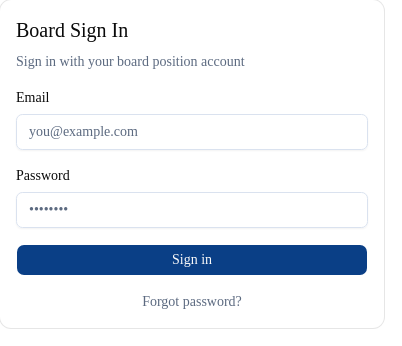
Test case: LoginForm — forgot password › shows the email form when 'Forgot password?' is clicked
Step 1. Click the button "Forgot password?" → (192,302), box [16,292,368,312]
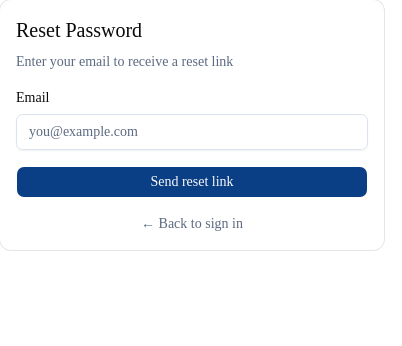
Expected: the button "Send reset link" is shown, [16,166,368,198]
